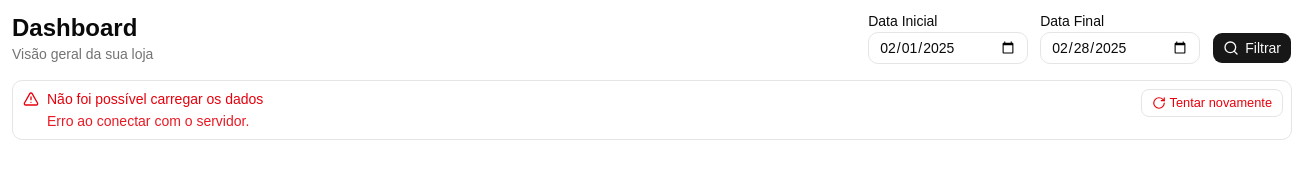
Scenario: DashboardOverview › shows the error and retries
Expected: the text "Erro ao conectar com o servidor." is shown, [47,113,249,129]
Click the button "Tentar novamente".
click(1212, 103)  # box [1141,89,1283,117]
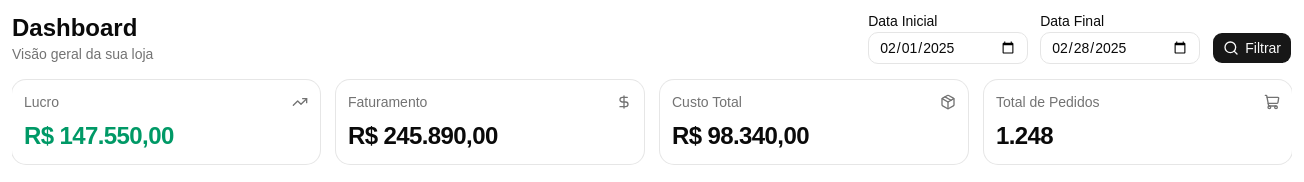
Expected: the text named "Lucro" reads "R$ 147.550,00", [24,122,174,149]
